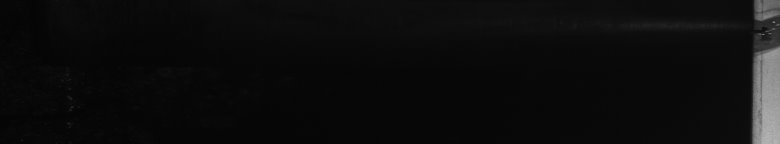hb: (764, 11, 776, 56)
